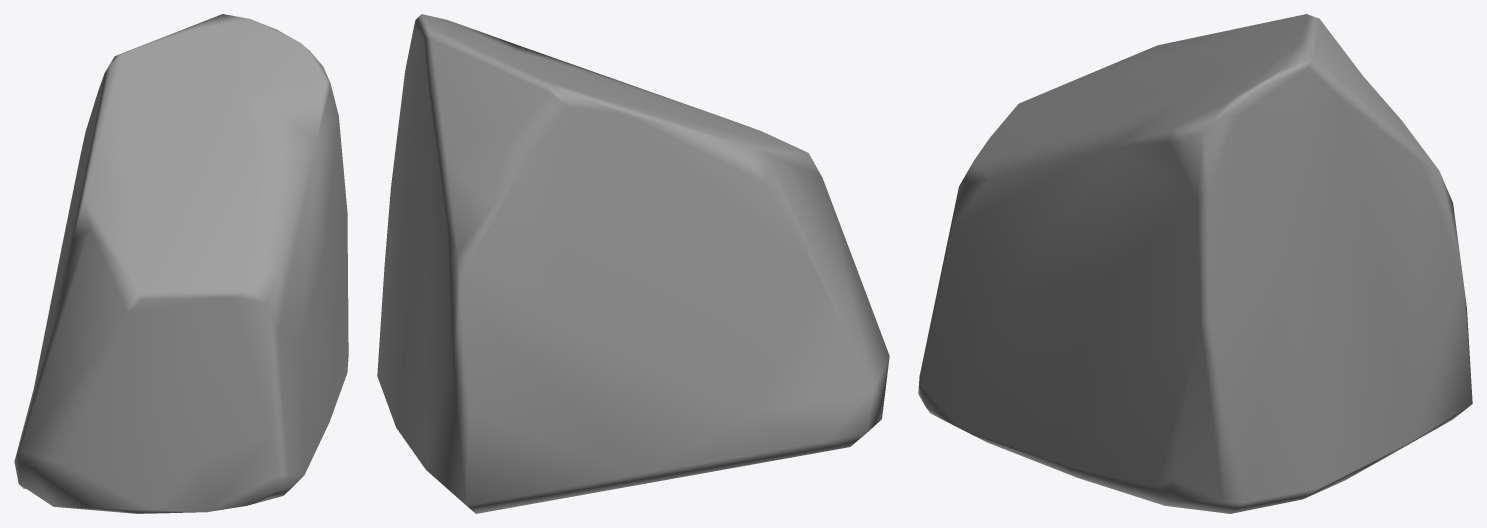
Rendered from Batu11.fbx.
The picture shows the model from 3 angles, left to right: view 1: azimuth 30°, elevation 25°; view 2: azimuth 150°, elevation 25°; view 3: azimuth 270°, elevation 25°; orthographic projection. The views are drawn at different scales.
Visible parts, largest first — view 1: SM_Rocks_02; view 2: SM_Rocks_02; view 3: SM_Rocks_02.
Part boxes in pixels (left/top/right/bottom): SM_Rocks_02: left=14, top=14, right=348, bottom=513; SM_Rocks_02: left=377, top=14, right=889, bottom=513; SM_Rocks_02: left=918, top=14, right=1472, bottom=513.
Size of the model in its own units: 61.74 by 55.86 by 66.02.
